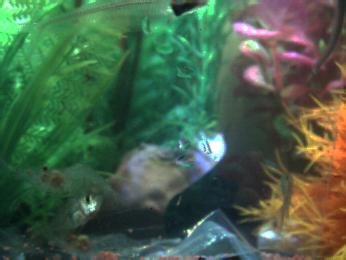X-ray fish: (33, 192, 106, 236), (272, 170, 294, 228)
glassfish: (21, 1, 213, 49), (300, 1, 346, 85)
siberian prawn: (8, 162, 125, 203), (38, 226, 155, 257)
